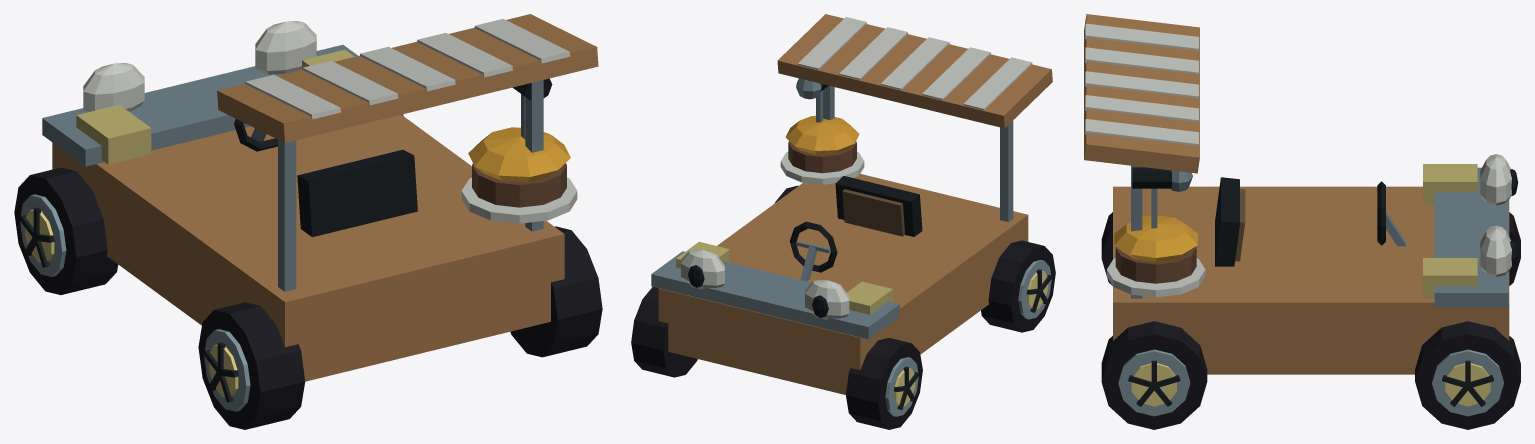
File: kart.glb
The picture shows the model from 3 angles, left to right: view 1: azimuth 30°, elevation 25°; view 2: azimuth 150°, elevation 25°; view 3: azimuth 270°, elevation 25°; orthographic projection. The views are drawn at different scales.
Parts seen in each view (by area): view 1: identity-food-cart-food-cart-counter-and-awning, wheel-rear-left, wheel-front-left, identity-food-cart-motif-food, identity-food-cart-driver-cockpit, wheel-rear-right, identity-food-cart-motif-eyes, identity-food-cart-motif-microphone; view 2: identity-food-cart-food-cart-counter-and-awning, wheel-front-left, identity-food-cart-driver-cockpit, wheel-rear-left, identity-food-cart-motif-food, identity-food-cart-motif-eyes, wheel-front-right, identity-food-cart-motif-microphone; view 3: identity-food-cart-food-cart-counter-and-awning, wheel-rear-right, wheel-front-right, identity-food-cart-motif-food, identity-food-cart-driver-cockpit, identity-food-cart-motif-eyes, identity-food-cart-motif-microphone, wheel-rear-left, wheel-front-left.
Part boxes in pixels (left/top/right/bottom): identity-food-cart-food-cart-counter-and-awning: left=42, top=14, right=598, bottom=381; wheel-rear-left: left=198, top=302, right=305, bottom=429; wheel-front-left: left=14, top=167, right=118, bottom=294; identity-food-cart-motif-food: left=461, top=127, right=577, bottom=223; identity-food-cart-driver-cockpit: left=234, top=119, right=417, bottom=237; wheel-rear-right: left=510, top=226, right=602, bottom=357; identity-food-cart-motif-eyes: left=83, top=21, right=316, bottom=112; identity-food-cart-motif-microphone: left=512, top=78, right=552, bottom=139; identity-food-cart-food-cart-counter-and-awning: left=651, top=14, right=1052, bottom=394; wheel-front-left: left=846, top=338, right=922, bottom=429; identity-food-cart-driver-cockpit: left=789, top=176, right=922, bottom=281; wheel-rear-left: left=981, top=240, right=1055, bottom=332; identity-food-cart-motif-food: left=780, top=115, right=864, bottom=184; identity-food-cart-motif-eyes: left=681, top=249, right=849, bottom=319; wheel-front-right: left=631, top=287, right=697, bottom=377; identity-food-cart-motif-microphone: left=796, top=78, right=828, bottom=122; identity-food-cart-food-cart-counter-and-awning: left=1084, top=14, right=1509, bottom=374; wheel-rear-right: left=1101, top=321, right=1207, bottom=429; wheel-front-right: left=1415, top=321, right=1520, bottom=429; identity-food-cart-motif-food: left=1106, top=215, right=1205, bottom=297; identity-food-cart-driver-cockpit: left=1215, top=177, right=1406, bottom=266; identity-food-cart-motif-eyes: left=1480, top=154, right=1518, bottom=277; identity-food-cart-motif-microphone: left=1132, top=167, right=1192, bottom=228; wheel-rear-left: left=1101, top=212, right=1112, bottom=285; wheel-front-left: left=1509, top=212, right=1520, bottom=285.
Size of the model in its own units: 2.03 by 1.76 by 2.48.
